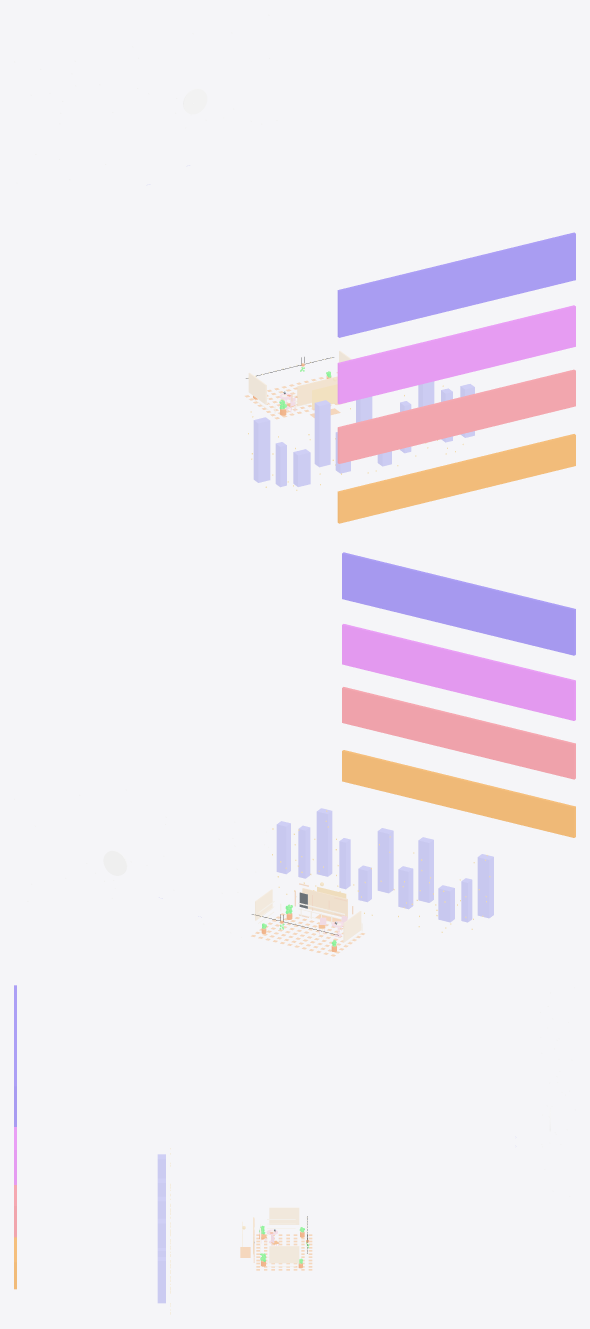
Rendered from sunset-balcony.glb.
3 views of the same model, one above another, from view 1: azimuth 30°, elevation 25°; view 2: azimuth 150°, elevation 25°; view 3: azimuth 270°, elevation 25° (orthographic). The views are drawn at different scales.
Visible parts, largest first — view 1: Sky3, Sky2, Sky1, Sky0, Bldg0, Bldg3, Bldg2; view 2: Sky3, Sky2, Sky1, Sky0, Bldg8, Bldg5, Bldg0, Bldg3, WallBack, Bldg10, Bldg9, Bldg4 (+3 smaller); view 3: WallR, WallL, Sky3.
Part boxes in pixels (bbox=[...]): Sky3: bbox=[337, 232, 575, 337]; Sky2: bbox=[337, 305, 575, 404]; Sky1: bbox=[337, 369, 575, 463]; Sky0: bbox=[337, 434, 575, 523]; Bldg0: bbox=[253, 417, 270, 482]; Bldg3: bbox=[314, 400, 330, 467]; Bldg2: bbox=[293, 449, 310, 486]; Sky3: bbox=[342, 552, 575, 655]; Sky2: bbox=[342, 624, 575, 720]; Sky1: bbox=[342, 687, 575, 779]; Sky0: bbox=[342, 750, 575, 837]; Bldg8: bbox=[316, 808, 332, 876]; Bldg5: bbox=[377, 828, 393, 893]; Bldg0: bbox=[477, 854, 493, 918]; Bldg3: bbox=[418, 837, 433, 902]; WallBack: bbox=[302, 888, 347, 917]; Bldg10: bbox=[276, 821, 290, 874]; Bldg9: bbox=[298, 825, 310, 878]; Bldg4: bbox=[398, 866, 413, 909]; WallR: bbox=[269, 1246, 299, 1263]; WallL: bbox=[269, 1207, 299, 1224]; Sky3: bbox=[14, 985, 16, 1126].
Size of the model in its own units: 17.77 by 17.84 by 37.63.
